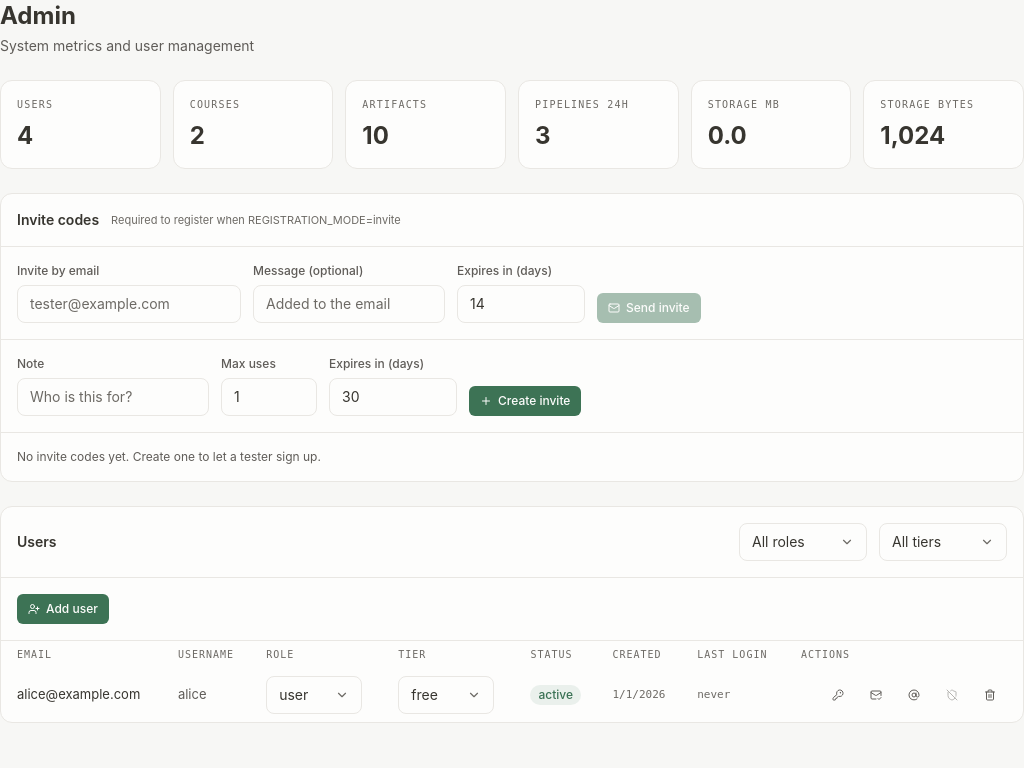
Test: AdminPage destructive confirmations › cancelling a deactivation sends nothing
The width and height of the screenshot is (1024, 768).
What coordinates should you click on to do the following:
click the button with aria-label "deactivate user"
I would click on:
 (556, 695)
Its box is [530,685,581,705].
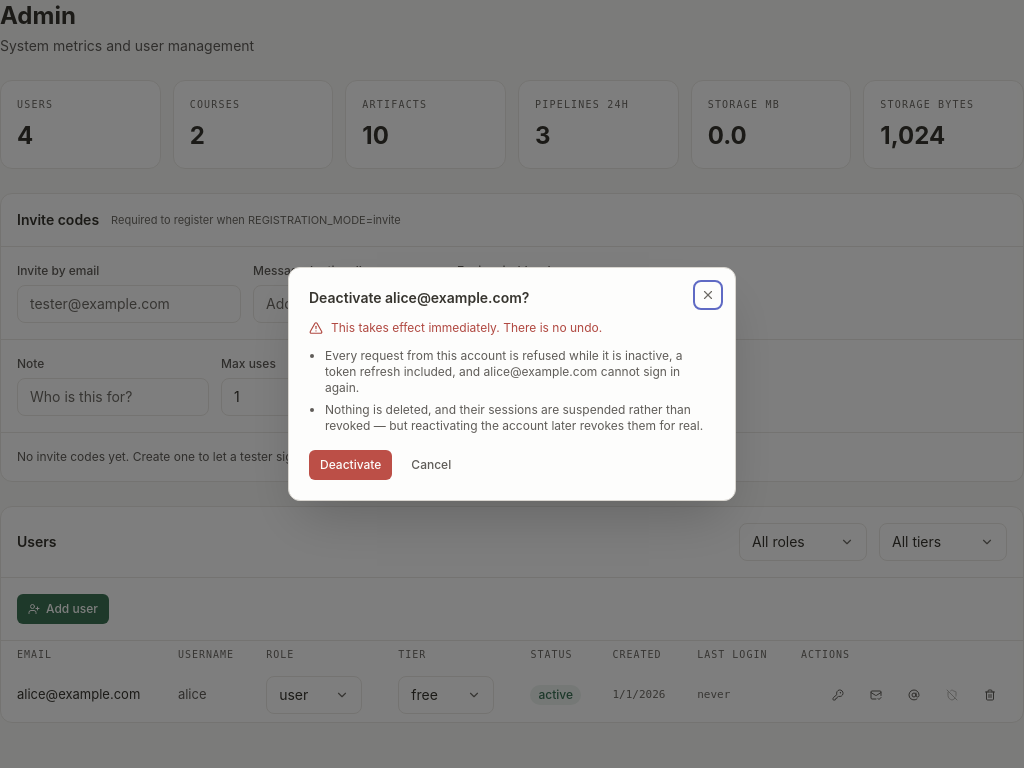
What coordinates should you click on to do the following:
click the button "Cancel"
I would click on:
 (431, 465)
Its box is [400,450,462,480].
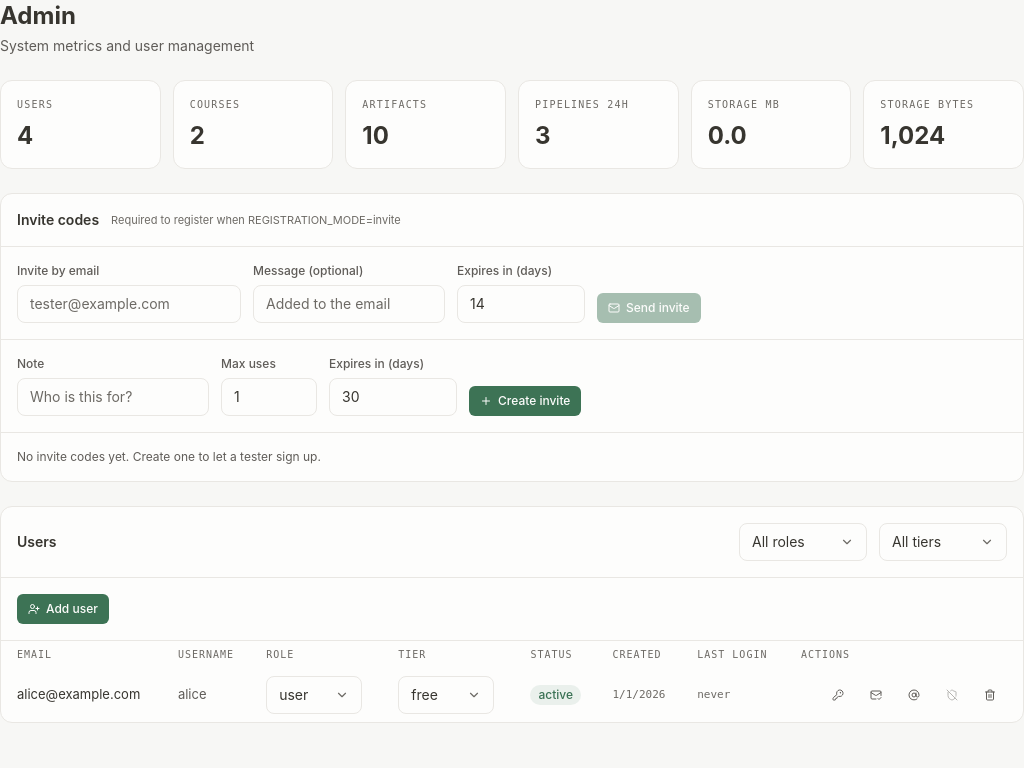
Expected: the dialog is gone
